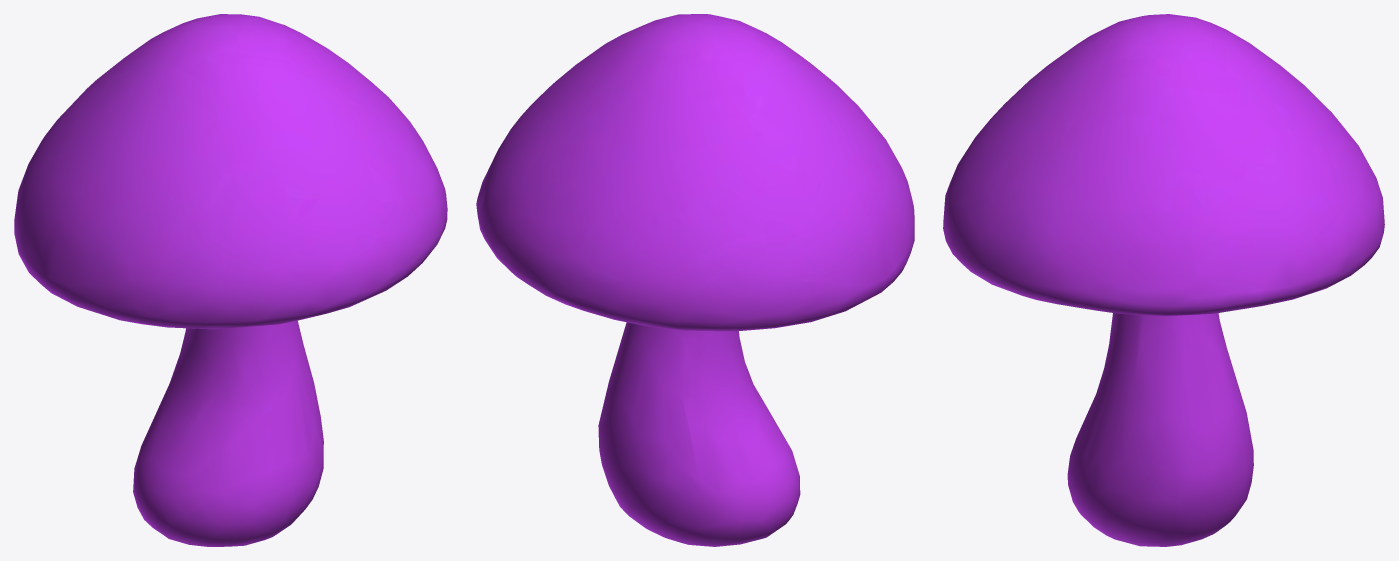
File: shroom_purple.glb
3 views of the same model, side by side, from view 1: azimuth 30°, elevation 25°; view 2: azimuth 150°, elevation 25°; view 3: azimuth 270°, elevation 25° (orthographic).
Visible parts, largest first — view 1: tripo_node_70cb0f8a-e769-41dd-8684-b3cb4d95347c; view 2: tripo_node_70cb0f8a-e769-41dd-8684-b3cb4d95347c; view 3: tripo_node_70cb0f8a-e769-41dd-8684-b3cb4d95347c.
Part boxes in pixels (x1=…): tripo_node_70cb0f8a-e769-41dd-8684-b3cb4d95347c: x1=14, y1=14, x2=447, y2=546; tripo_node_70cb0f8a-e769-41dd-8684-b3cb4d95347c: x1=476, y1=14, x2=914, y2=546; tripo_node_70cb0f8a-e769-41dd-8684-b3cb4d95347c: x1=943, y1=14, x2=1384, y2=546.
Bounding box in the file's own units: 0.8044 × 1 × 0.7991.
Materials: 1 (1 with a texture image).
